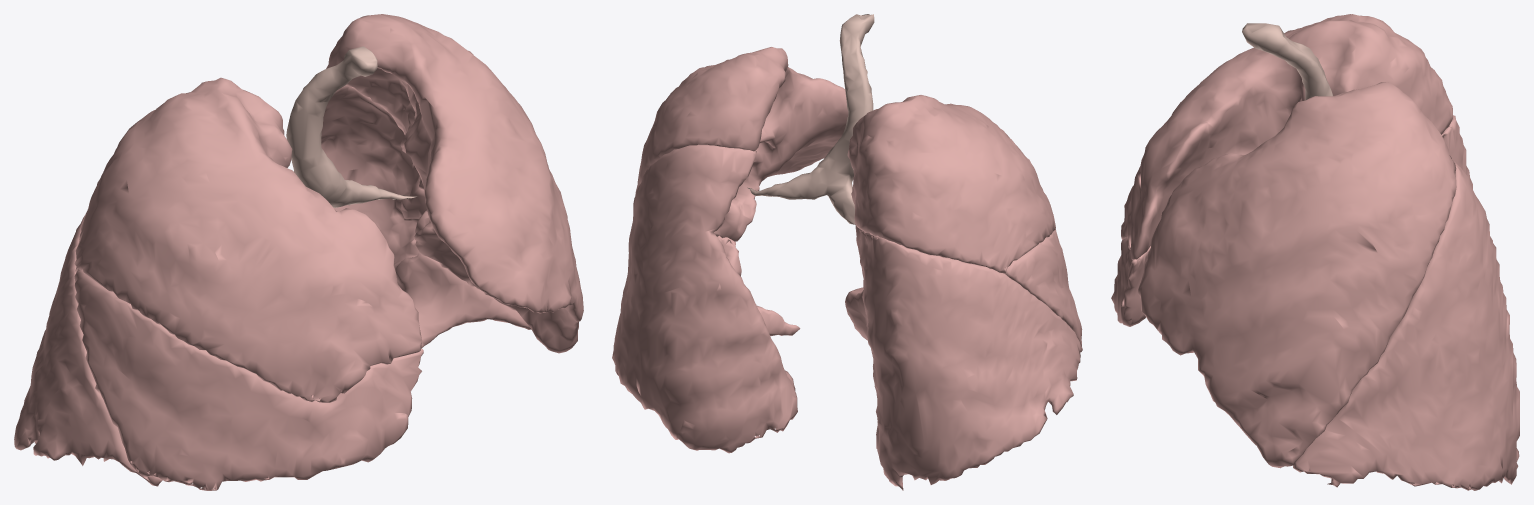
The model's file is tsd_s0196_older_adult_female.respiratory.LOD2.glb.
3 views of the same model, side by side, from view 1: azimuth 30°, elevation 25°; view 2: azimuth 150°, elevation 25°; view 3: azimuth 270°, elevation 25° (orthographic). The views are drawn at different scales.
Parts seen in each view (by area): view 1: TSD_S0196.OLDER_ADULT.FEMALE.RESPIRATORY.SUPERIOR_LOBE_OF_RI, TSD_S0196.OLDER_ADULT.FEMALE.RESPIRATORY.SUPERIOR_LOBE_OF_LE, TSD_S0196.OLDER_ADULT.FEMALE.RESPIRATORY.MIDDLE_LOBE_OF_RIGH, TSD_S0196.OLDER_ADULT.FEMALE.RESPIRATORY.INFERIOR_LOBE_OF_LE, TSD_S0196.OLDER_ADULT.FEMALE.RESPIRATORY.INFERIOR_LOBE_OF_RI, TSD_S0196.OLDER_ADULT.FEMALE.RESPIRATORY.TRACHEA; view 2: TSD_S0196.OLDER_ADULT.FEMALE.RESPIRATORY.INFERIOR_LOBE_OF_RI, TSD_S0196.OLDER_ADULT.FEMALE.RESPIRATORY.INFERIOR_LOBE_OF_LE, TSD_S0196.OLDER_ADULT.FEMALE.RESPIRATORY.SUPERIOR_LOBE_OF_RI, TSD_S0196.OLDER_ADULT.FEMALE.RESPIRATORY.SUPERIOR_LOBE_OF_LE, TSD_S0196.OLDER_ADULT.FEMALE.RESPIRATORY.TRACHEA, TSD_S0196.OLDER_ADULT.FEMALE.RESPIRATORY.MIDDLE_LOBE_OF_RIGH; view 3: TSD_S0196.OLDER_ADULT.FEMALE.RESPIRATORY.SUPERIOR_LOBE_OF_LE, TSD_S0196.OLDER_ADULT.FEMALE.RESPIRATORY.INFERIOR_LOBE_OF_LE, TSD_S0196.OLDER_ADULT.FEMALE.RESPIRATORY.SUPERIOR_LOBE_OF_RI, TSD_S0196.OLDER_ADULT.FEMALE.RESPIRATORY.TRACHEA, TSD_S0196.OLDER_ADULT.FEMALE.RESPIRATORY.MIDDLE_LOBE_OF_RIGH, TSD_S0196.OLDER_ADULT.FEMALE.RESPIRATORY.INFERIOR_LOBE_OF_RI.
Boxes of the visible parts, left/top/right/bottom form: TSD_S0196.OLDER_ADULT.FEMALE.RESPIRATORY.SUPERIOR_LOBE_OF_RI: left=74, top=77, right=422, bottom=402; TSD_S0196.OLDER_ADULT.FEMALE.RESPIRATORY.SUPERIOR_LOBE_OF_LE: left=326, top=14, right=583, bottom=353; TSD_S0196.OLDER_ADULT.FEMALE.RESPIRATORY.MIDDLE_LOBE_OF_RIGH: left=74, top=269, right=423, bottom=490; TSD_S0196.OLDER_ADULT.FEMALE.RESPIRATORY.INFERIOR_LOBE_OF_LE: left=321, top=85, right=531, bottom=347; TSD_S0196.OLDER_ADULT.FEMALE.RESPIRATORY.INFERIOR_LOBE_OF_RI: left=14, top=209, right=162, bottom=486; TSD_S0196.OLDER_ADULT.FEMALE.RESPIRATORY.TRACHEA: left=286, top=46, right=417, bottom=207; TSD_S0196.OLDER_ADULT.FEMALE.RESPIRATORY.INFERIOR_LOBE_OF_RI: left=845, top=225, right=1082, bottom=490; TSD_S0196.OLDER_ADULT.FEMALE.RESPIRATORY.INFERIOR_LOBE_OF_LE: left=612, top=144, right=800, bottom=453; TSD_S0196.OLDER_ADULT.FEMALE.RESPIRATORY.SUPERIOR_LOBE_OF_RI: left=847, top=95, right=1055, bottom=273; TSD_S0196.OLDER_ADULT.FEMALE.RESPIRATORY.SUPERIOR_LOBE_OF_LE: left=635, top=47, right=848, bottom=241; TSD_S0196.OLDER_ADULT.FEMALE.RESPIRATORY.TRACHEA: left=747, top=14, right=874, bottom=224; TSD_S0196.OLDER_ADULT.FEMALE.RESPIRATORY.MIDDLE_LOBE_OF_RIGH: left=1004, top=229, right=1082, bottom=346; TSD_S0196.OLDER_ADULT.FEMALE.RESPIRATORY.SUPERIOR_LOBE_OF_LE: left=1137, top=82, right=1456, bottom=468; TSD_S0196.OLDER_ADULT.FEMALE.RESPIRATORY.INFERIOR_LOBE_OF_LE: left=1293, top=161, right=1519, bottom=490; TSD_S0196.OLDER_ADULT.FEMALE.RESPIRATORY.SUPERIOR_LOBE_OF_RI: left=1121, top=14, right=1452, bottom=259; TSD_S0196.OLDER_ADULT.FEMALE.RESPIRATORY.TRACHEA: left=1242, top=23, right=1332, bottom=100; TSD_S0196.OLDER_ADULT.FEMALE.RESPIRATORY.MIDDLE_LOBE_OF_RIGH: left=1111, top=237, right=1150, bottom=326; TSD_S0196.OLDER_ADULT.FEMALE.RESPIRATORY.INFERIOR_LOBE_OF_RI: left=1441, top=115, right=1472, bottom=188.
Size of the model in its own units: 0.2551 by 0.2143 by 0.1831.
